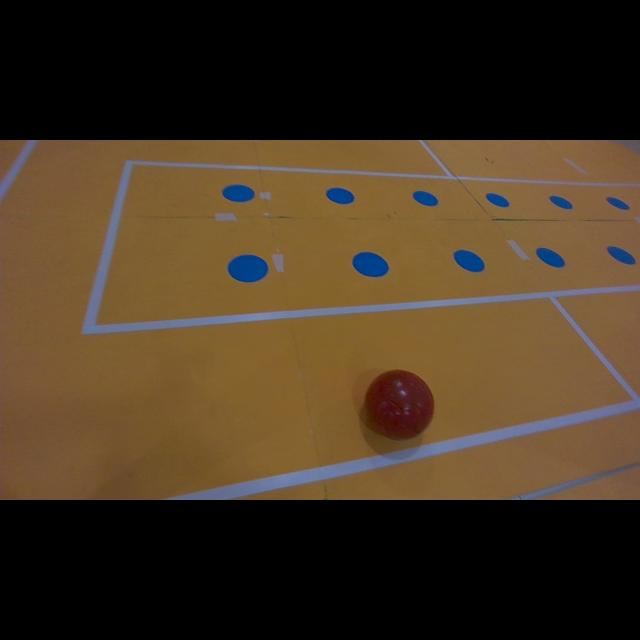R: (365, 370, 434, 440)
